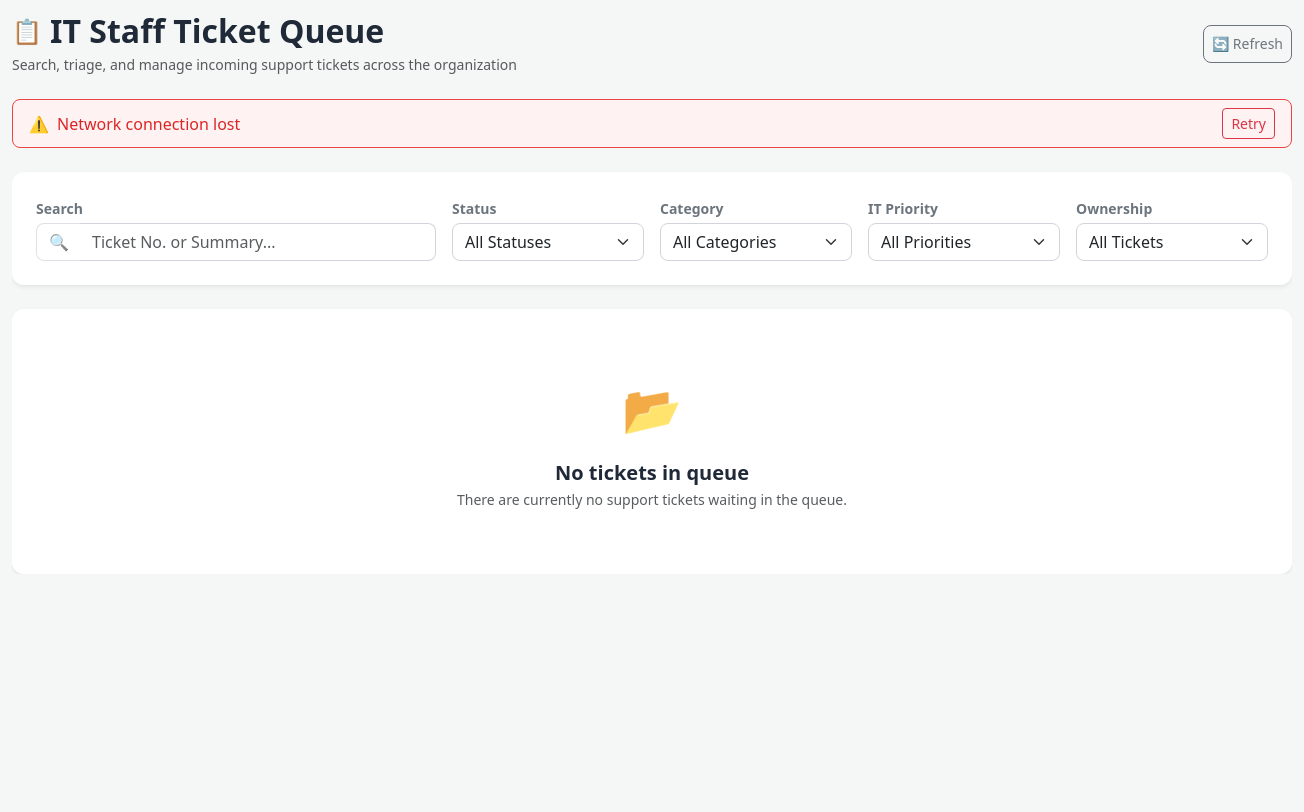
Test: UI-03 & UI-06: IT Staff Ticket Queue Component Tests › displays safe error banner on failure and retries on button click
The image size is (1304, 812).
Expected: the text "Network connection lost" is shown, [57,112,240,136]
Step 1. Click the button "Retry" → (1249, 124), box [1222,108,1275,139]
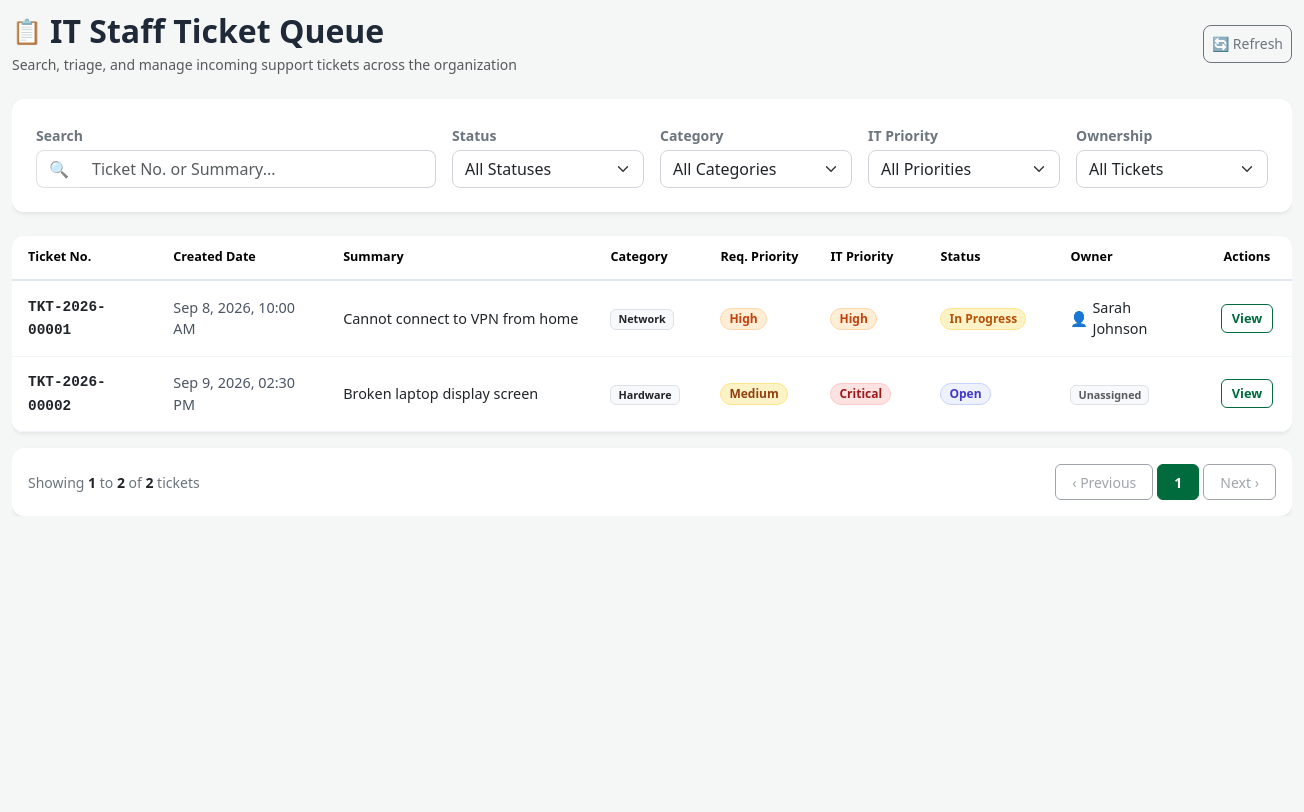
Expected: the text "TKT-2026-00001" is shown, [28,299,106,338]
